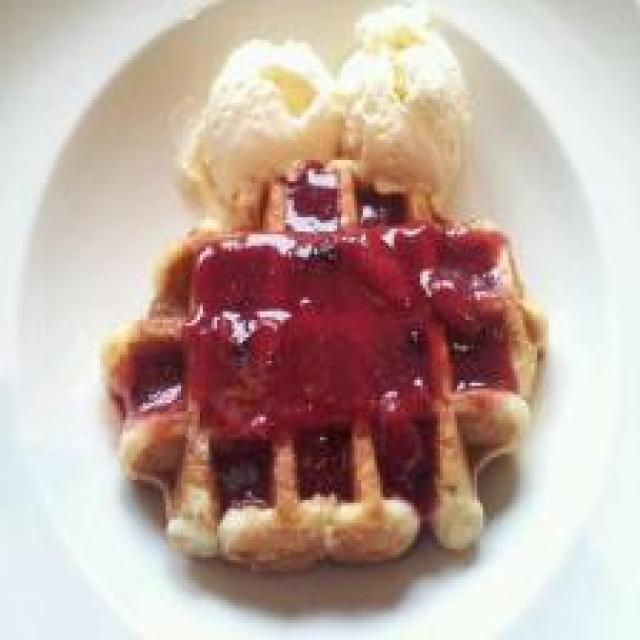Waffles: (91, 166, 548, 571)
